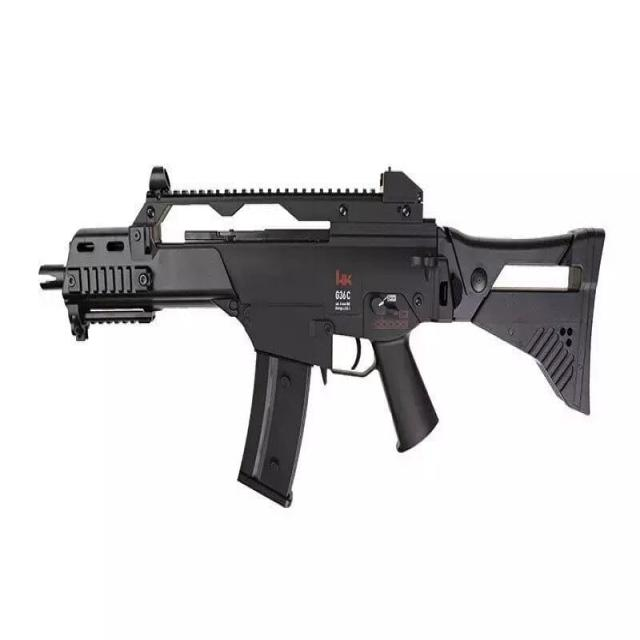Rifle: (39, 167, 607, 510)
